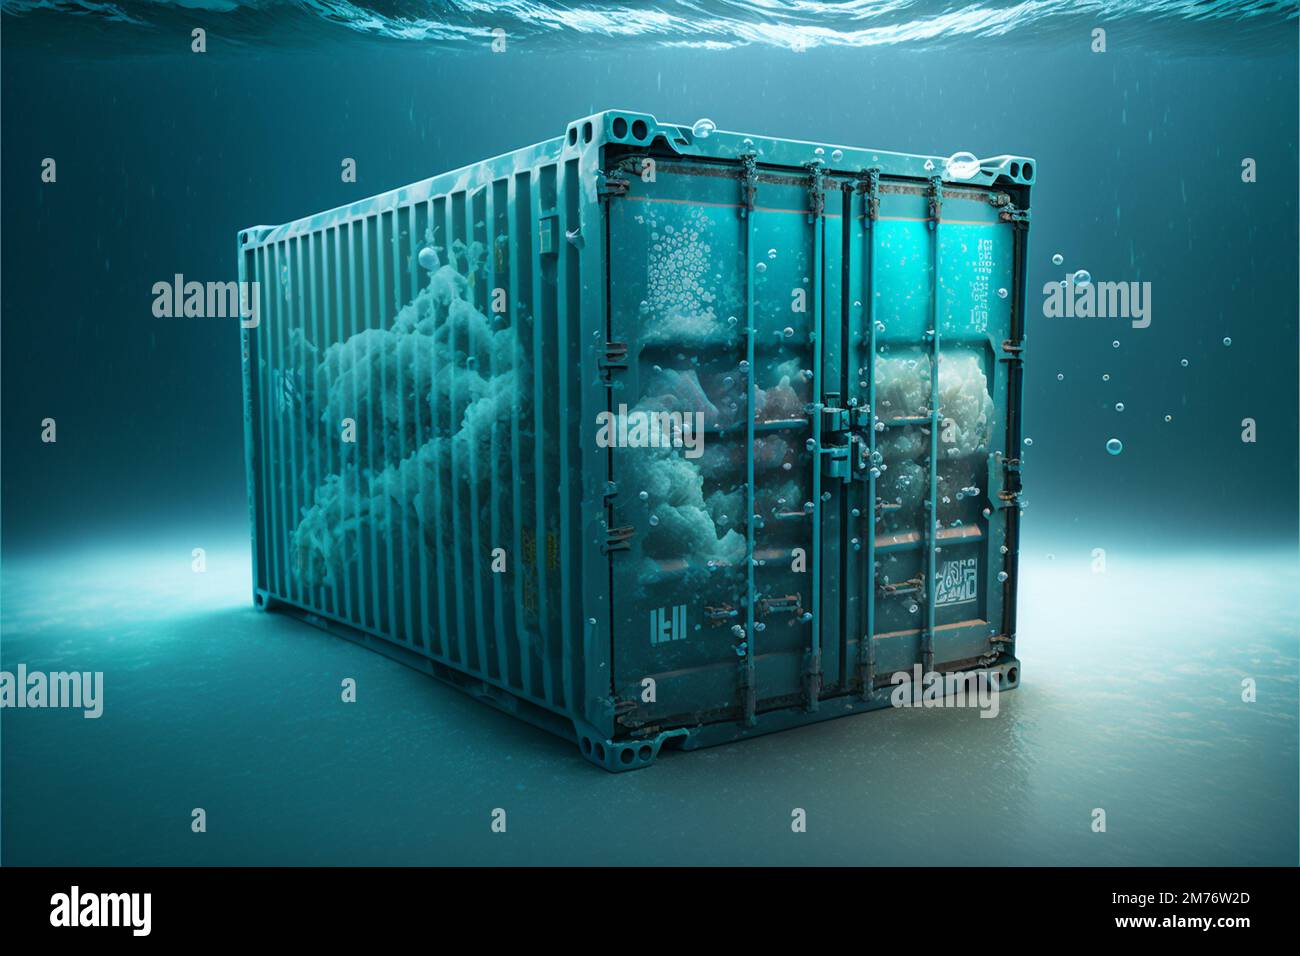Container: (235, 110, 1040, 776)
